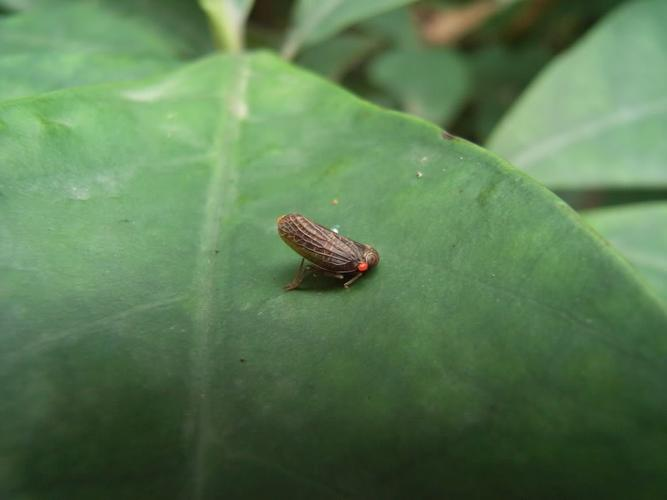Cicadellidae: (276, 213, 380, 293)
